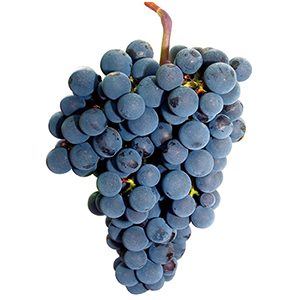Black grapes: (66, 46, 211, 287)
